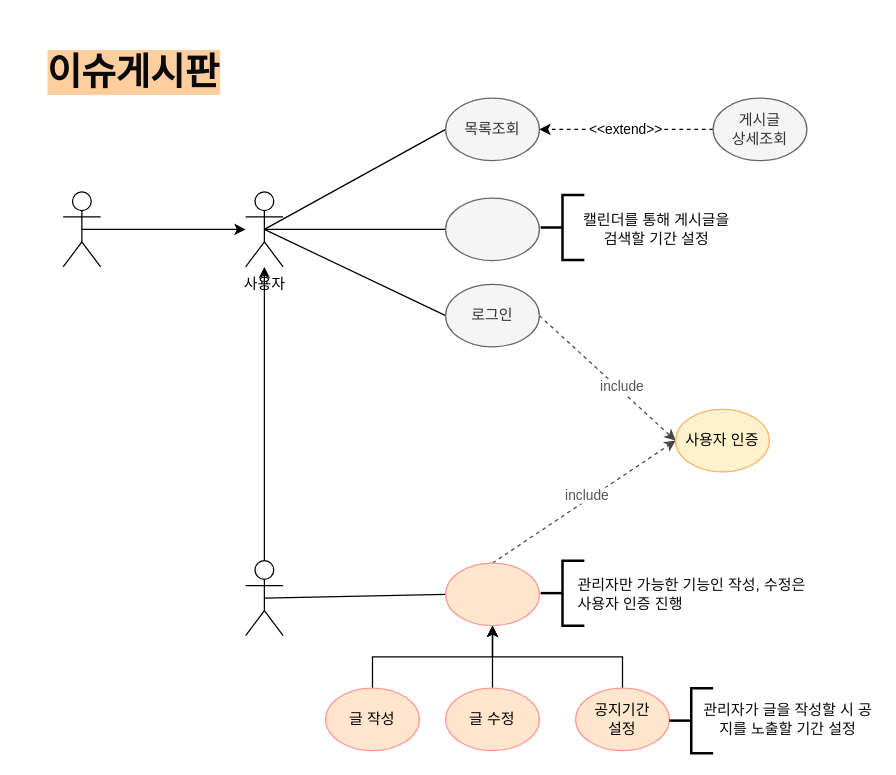
This 896x775 diagram has some shape labels left out. Each missing label, with the centre of its shape:
"검색" belongs at point (491, 229).
"관리자" belongs at point (263, 597).
"글 관리" belongs at point (491, 594).
"회원" belongs at point (81, 229).
